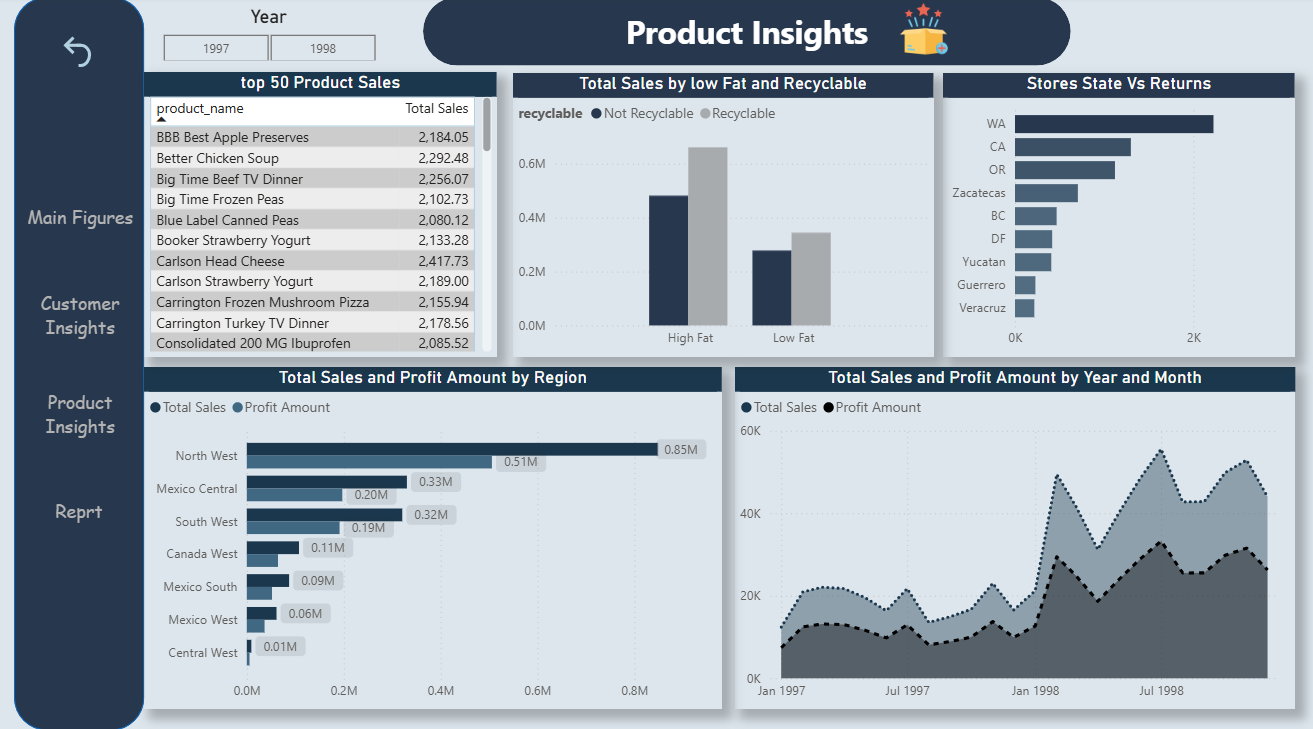

This screenshot's page, from the dashboard's own definition file:
{"tool":"powerbi","page":{"name":"Product Insights ","canvas":[1280,720],"ordinal":2},"visuals":[{"type":"shape","box":[14.4,0,126.7,713.3],"z":0},{"type":"actionButton","box":[22.7,182.5,113.2,62.8],"z":1000},{"type":"actionButton","box":[22.7,278.5,113.2,62.8],"z":2000},{"type":"actionButton","box":[22.7,374.6,113.2,62.8],"z":3000},{"type":"shape","box":[412.2,0,630,66.7],"z":4000},{"type":"image","box":[870,0,60,62.2],"z":5000},{"type":"lineChart","fields":{"Y":["Sales.Total Sales","Sales.Profit Amount"],"Category":["Sales.transaction_date.Variation.Date Hierarchy.Year","Sales.transaction_date.Variation.Date Hierarchy.Month"]},"box":[716,360,545,333],"z":6000},{"type":"clusteredBarChart","title":"Total Sales and Profit Amount by Region","fields":{"Y":["Sales.Total Sales","Sales.Profit Amount"],"Category":["Region.sales_region"]},"box":[141,360,562,333],"z":7000},{"type":"tableEx","title":"top 50 Product Sales","fields":{"Values":["Products.product_name","Sales.Total Sales"]},"box":[141,73,343,277],"z":8000},{"type":"actionButton","box":[56,33,100,40],"z":9000},{"type":"clusteredColumnChart","title":"Total Sales by low Fat and Recyclable","fields":{"Category":["Products.low_fat"],"Y":["Sales.Total Sales"],"Series":["Products.recyclable"]},"box":[500,73.6,408.7,275.9],"z":10000},{"type":"clusteredBarChart","title":"Stores State Vs Returns","fields":{"Y":["CountNonNull(Returns.product_id)"],"Category":["Stores.store_state"]},"box":[918,73.6,342.3,275.9],"z":11000},{"type":"actionButton","box":[21.4,467.8,112.8,63.2],"z":12000},{"type":"slicer","title":"Year","fields":{"Values":["Sales.transaction_date.Variation.Date Hierarchy.Year"]},"box":[141,8.8,255.8,53.5],"z":13000}]}

Visuals, with their boxes in screenshot pixels (x1, y1, x2, y2), scaled from the page's 1280x720 canvas onto the 1313x729 screenshot:
shape: (15, 0, 145, 722)
actionButton: (23, 185, 139, 248)
actionButton: (23, 282, 139, 346)
actionButton: (23, 379, 139, 443)
shape: (423, 0, 1069, 68)
image: (892, 0, 954, 63)
lineChart - Sales.Total Sales x Sales.Profit Amount: (734, 364, 1294, 702)
"Total Sales and Profit Amount by Region" clusteredBarChart: (145, 364, 721, 702)
"top 50 Product Sales" tableEx: (145, 74, 496, 354)
actionButton: (57, 33, 160, 74)
"Total Sales by low Fat and Recyclable" clusteredColumnChart: (513, 75, 932, 354)
"Stores State Vs Returns" clusteredBarChart: (942, 75, 1293, 354)
actionButton: (22, 474, 138, 538)
"Year" slicer: (145, 9, 407, 63)
